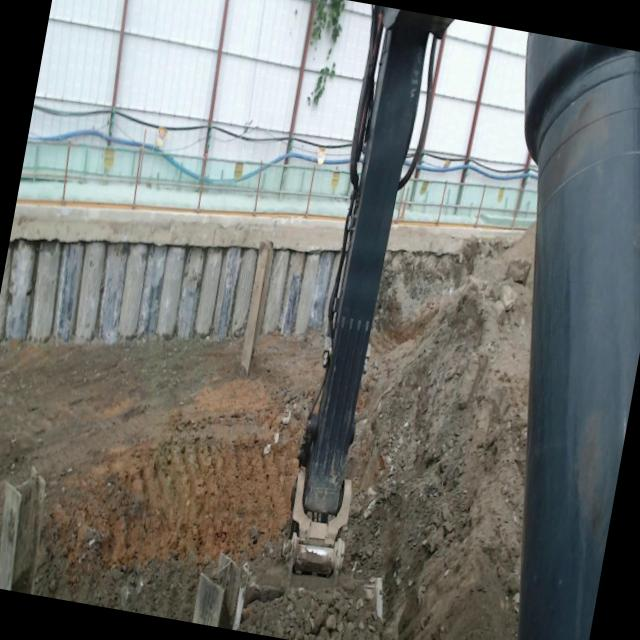white-sand: (239, 225, 534, 640), (0, 332, 324, 622)
